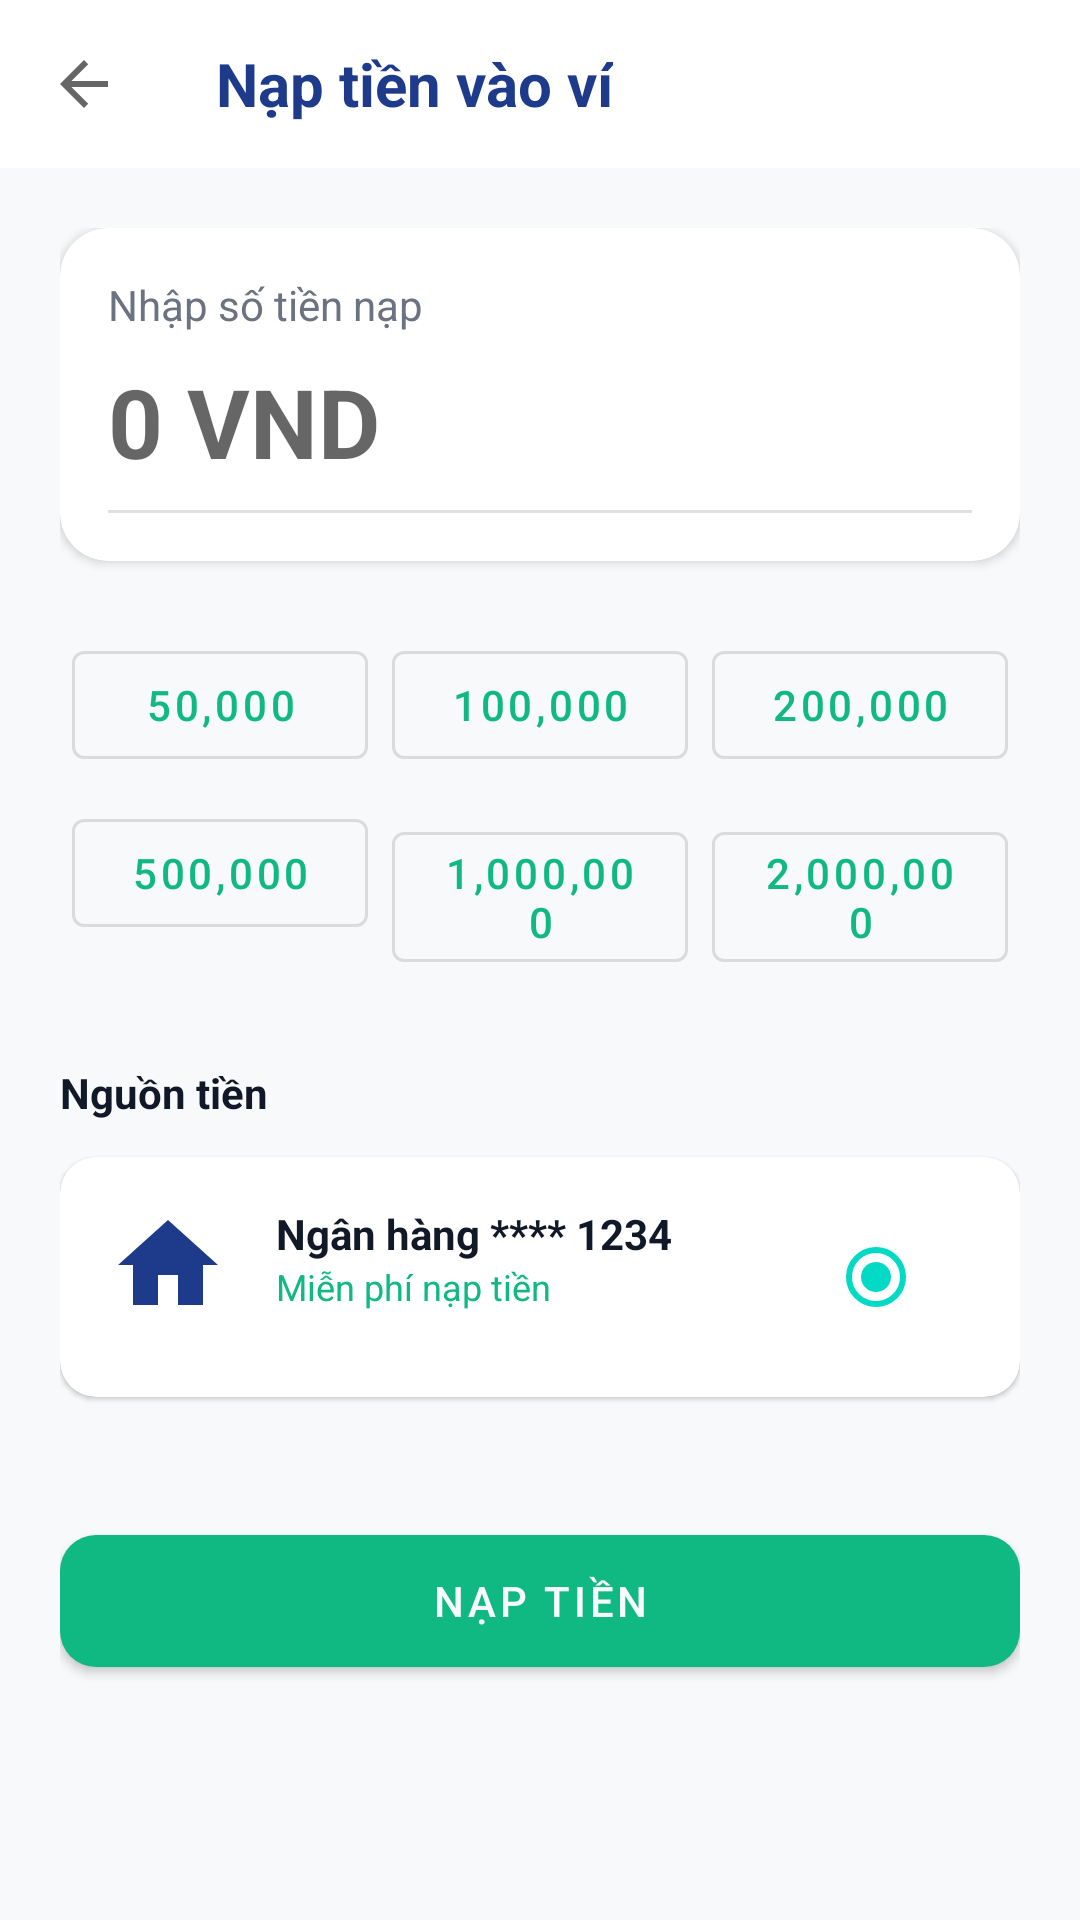

Icon bounding boxes for this 1080w x 1920h phone screenshot, format (x1, y1, x2, y2):
home nav: (118, 1220, 218, 1305)
